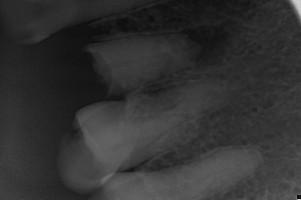Furcation Involvement: (183, 27, 237, 71)
